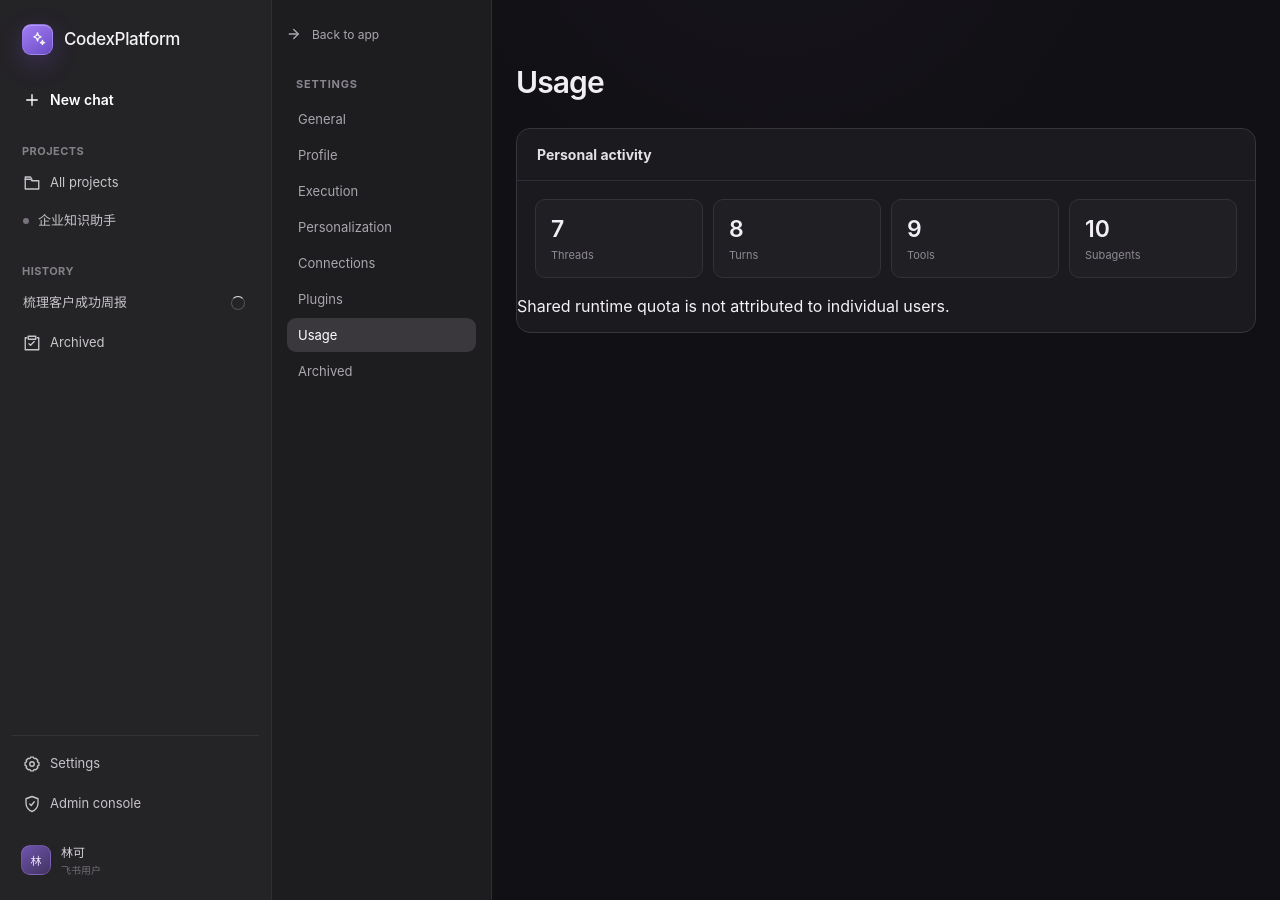
it: CodexPlatform 1.1 personal settings › does not expose cached usage while a forced remount refresh is pending
Expected: the element "Personal activity" is shown, [516,128,1256,333]
Expected: the text "7" is shown, [551,215,564,243]
Click the link "General": (322, 119) [298,111,346,127]
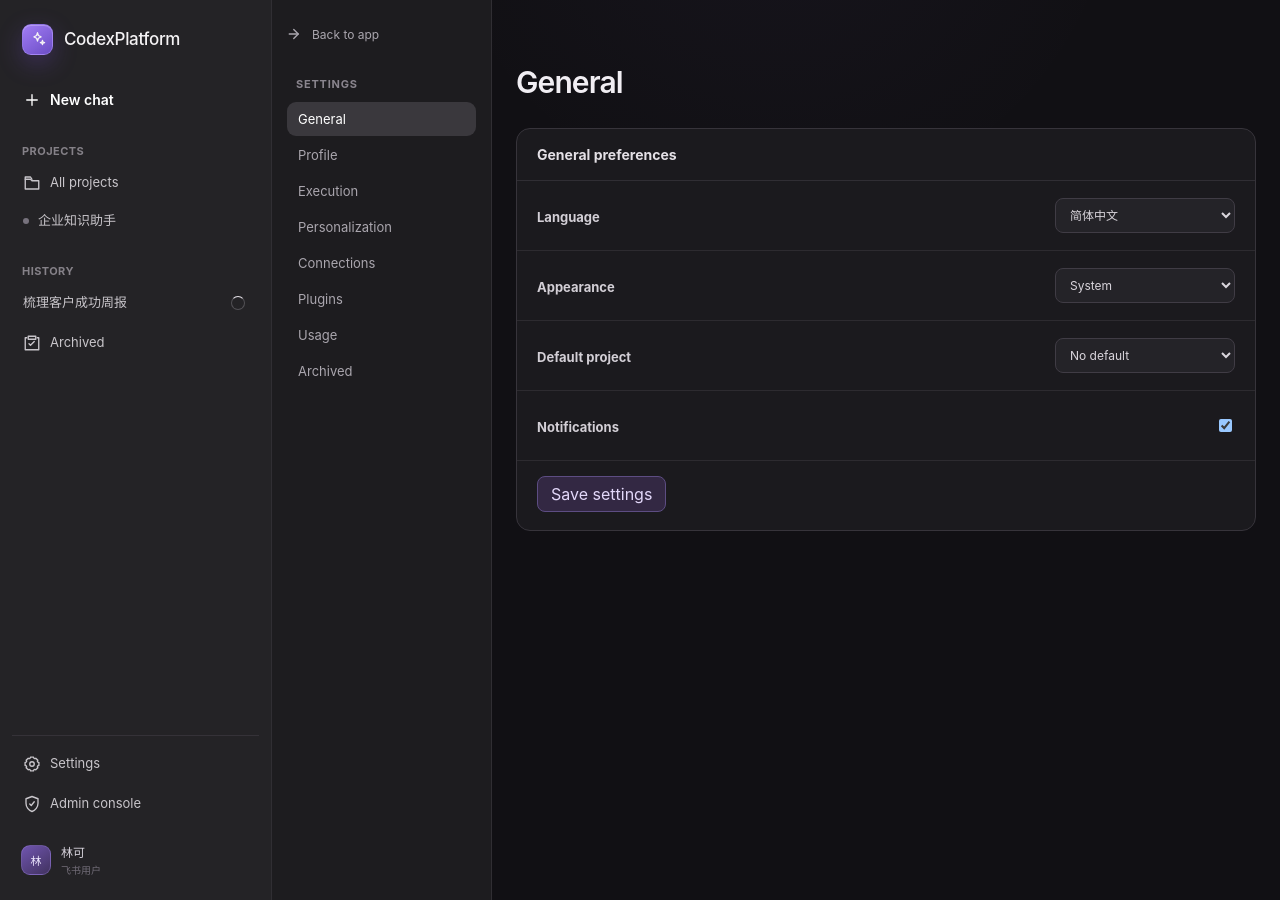
Expected: the heading "General preferences" is shown, [517,129,1255,181]
Click the link "Usage": (318, 335) [298,327,337,343]
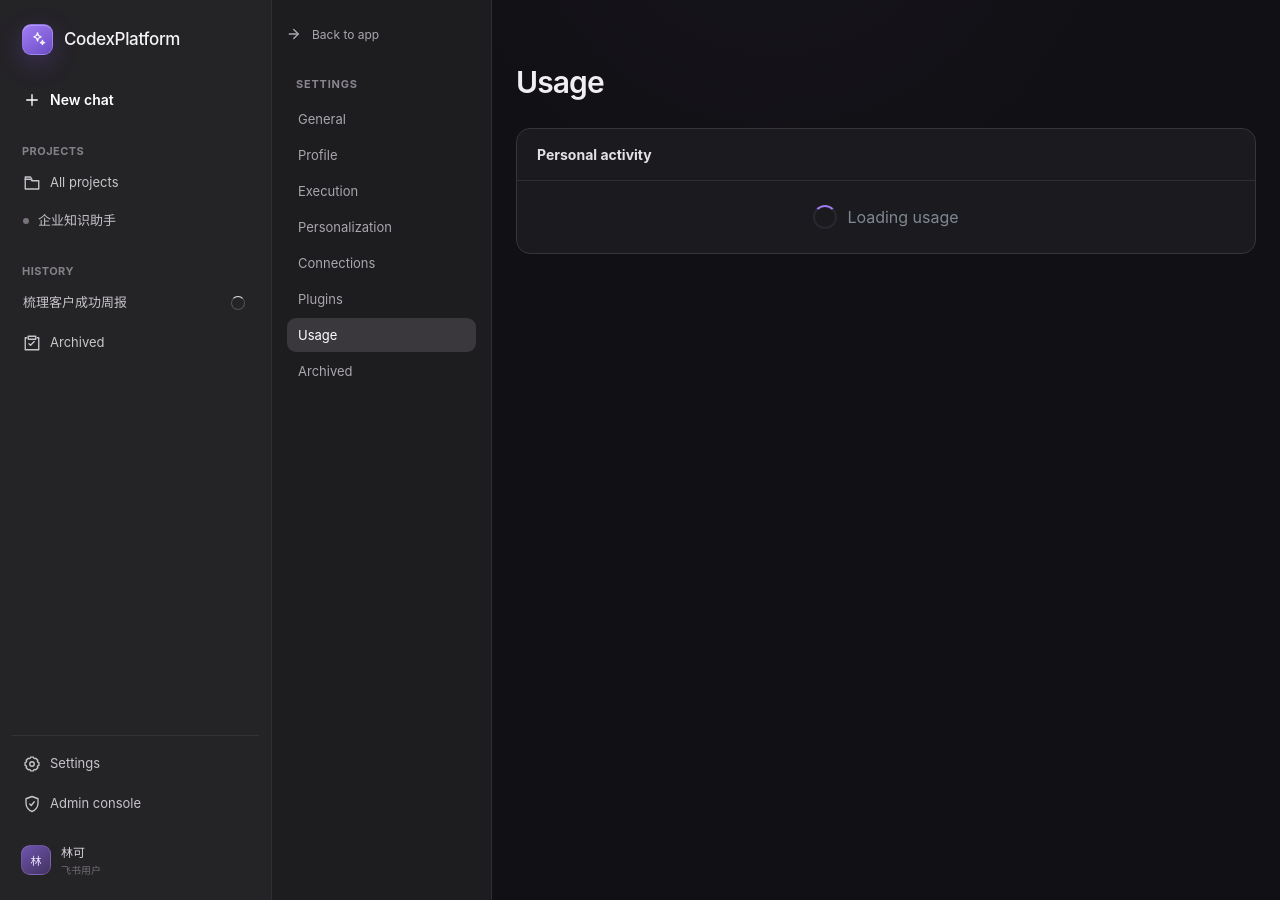
Expected: the text "7" is not shown
Expected: the text "Loading usage" is shown, [847,207,959,227]
